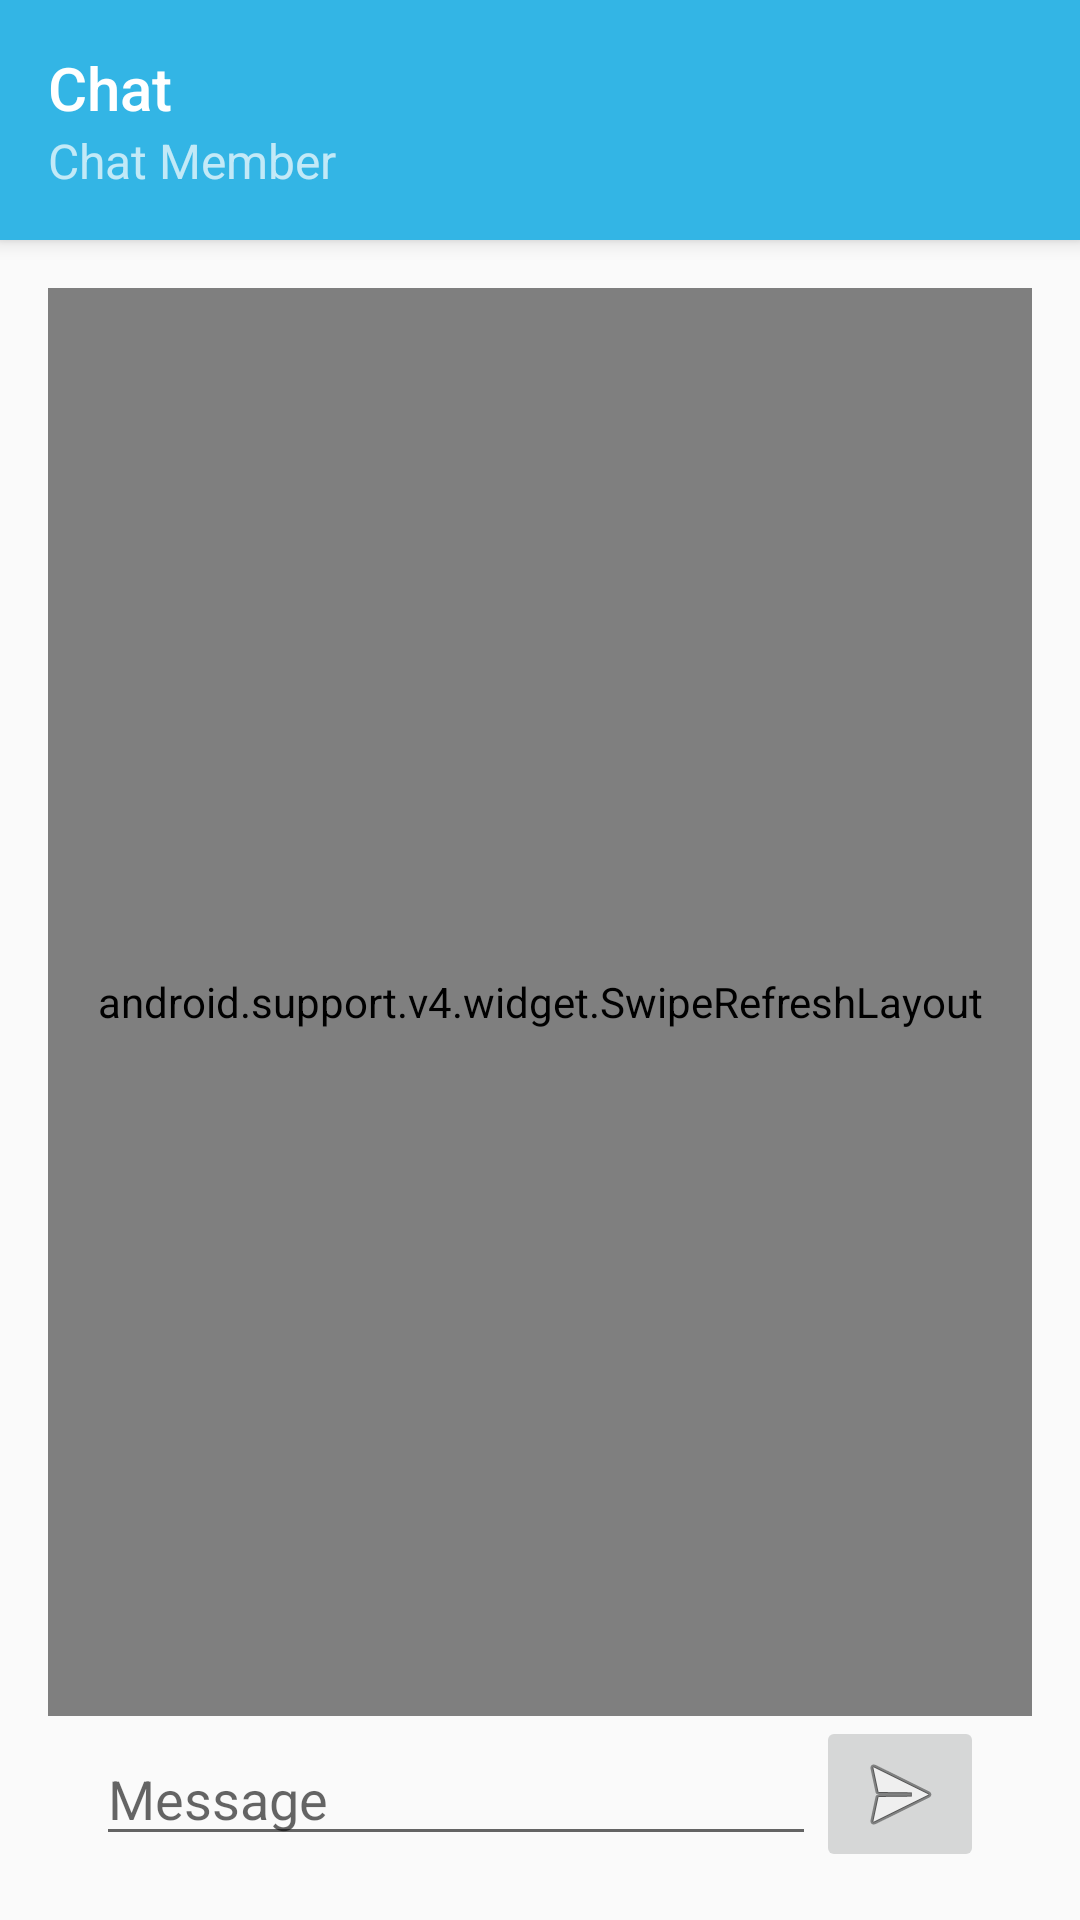

Icon click points for this 1080x1920 phone screenshot, format (x=x, y=y):
Send: (x=900, y=1794)
